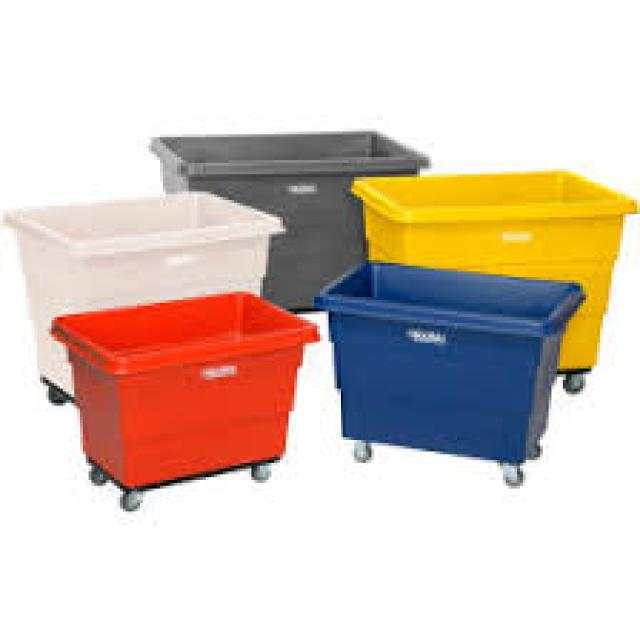basket: (119, 27, 431, 330), (284, 219, 589, 492), (4, 162, 308, 402), (48, 268, 342, 501)
